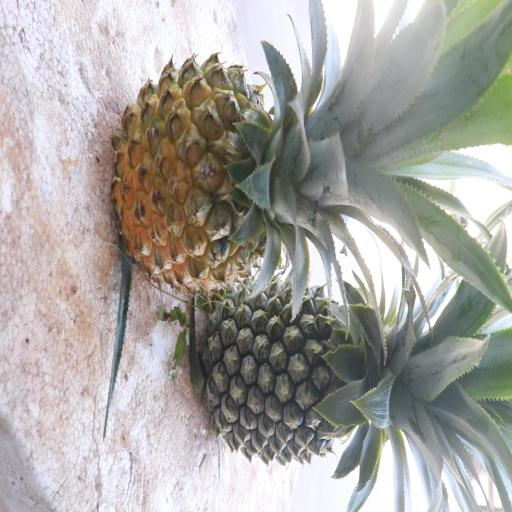Pineapple - v8 v1: (112, 49, 425, 294)
